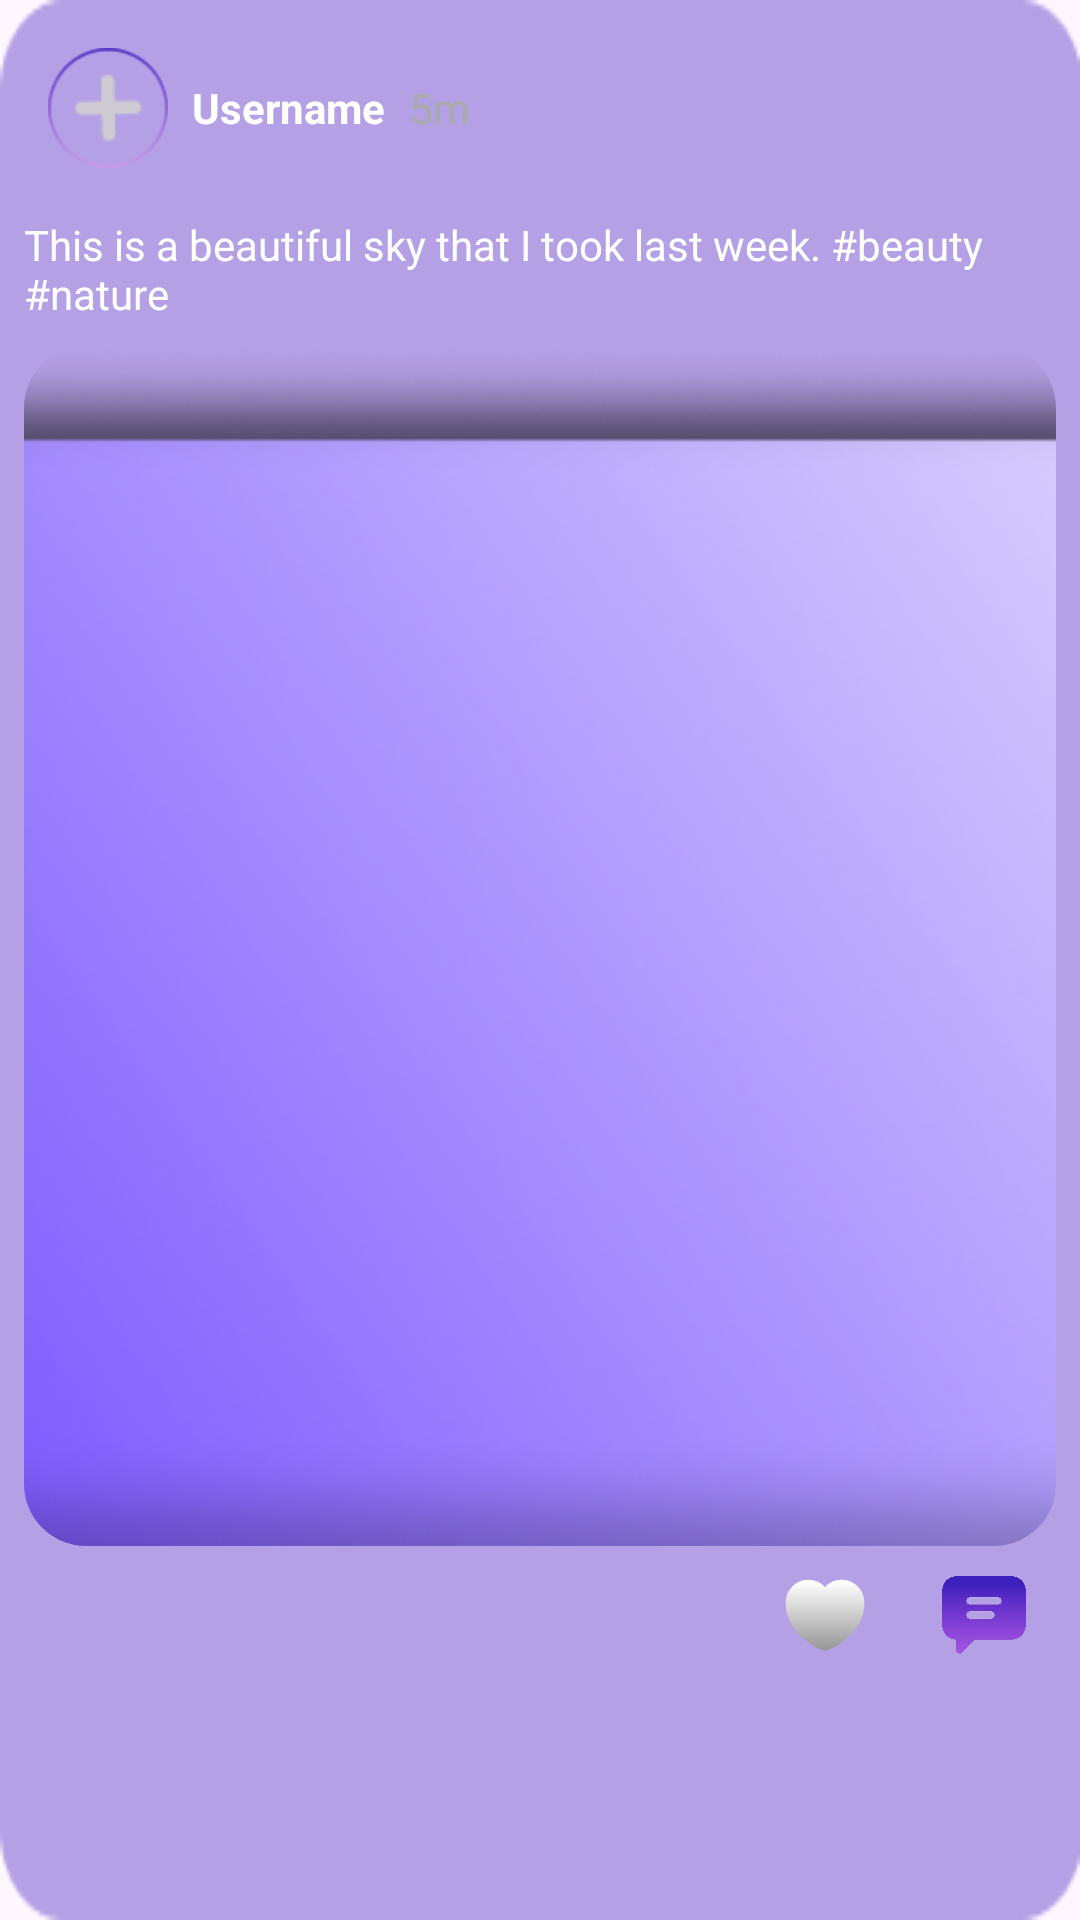

Locate icon controls on the screen. Image size 1080px x 1920px, boxes as BBox(x1, y1, x2, y2).
messagesecondpost: BBox(942, 1576, 1026, 1654)
unlike: BBox(786, 1580, 864, 1650)
